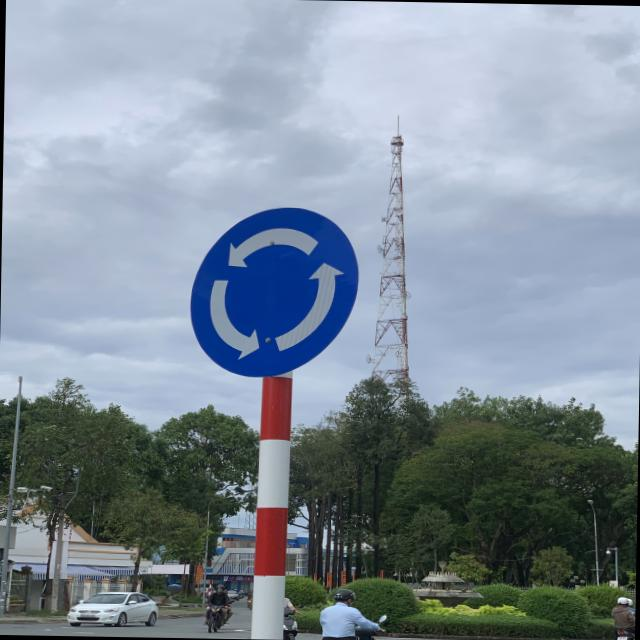Xe_Bus: (187, 203, 360, 380)
